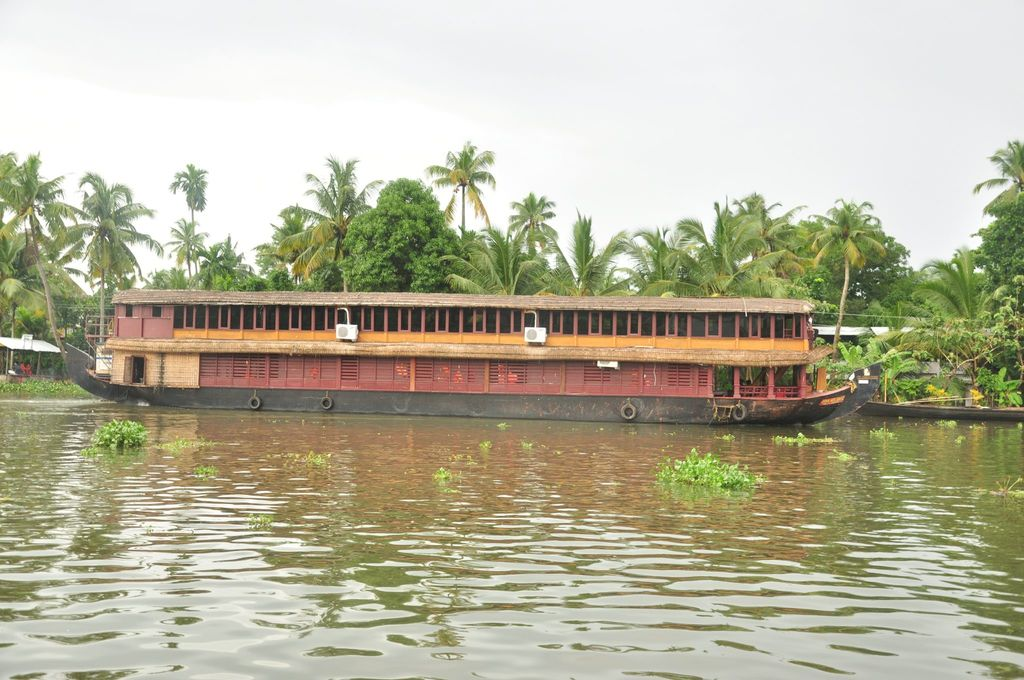Tree: (0, 137, 1024, 406)
